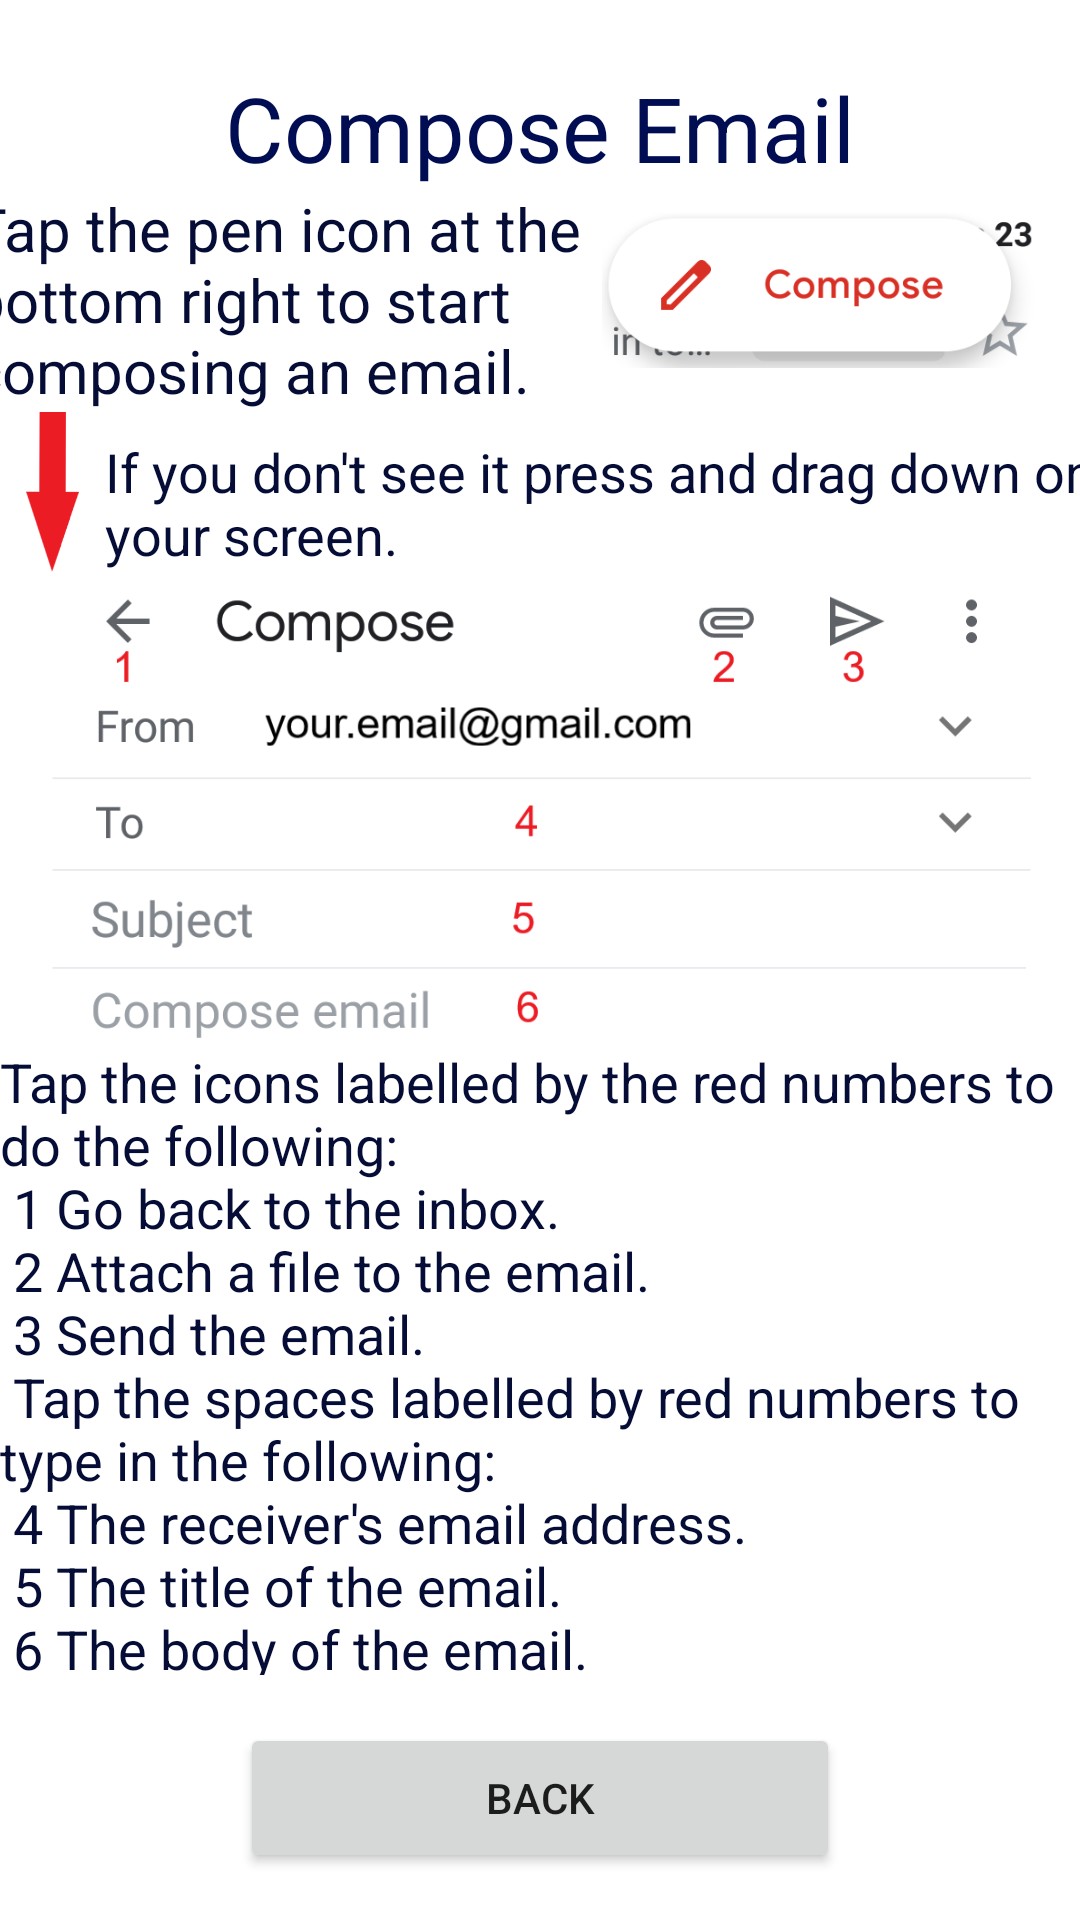

Named icons in this screenshot (1080 × 1920) and their centers, point (x, y):
down arrow: point (52, 491)
